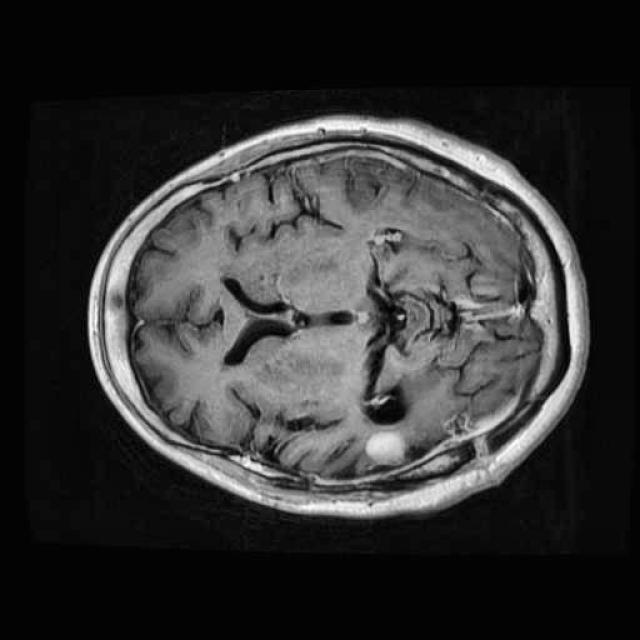Tumor: (355, 418, 413, 479)
